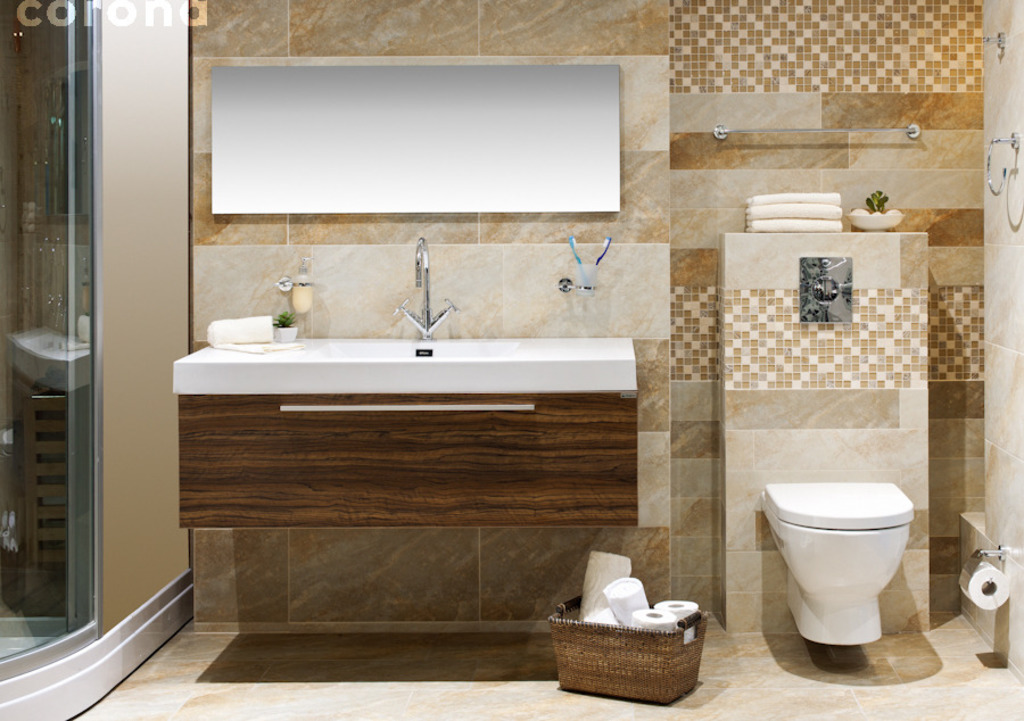tap: (395, 238, 455, 340), (797, 254, 855, 325)
